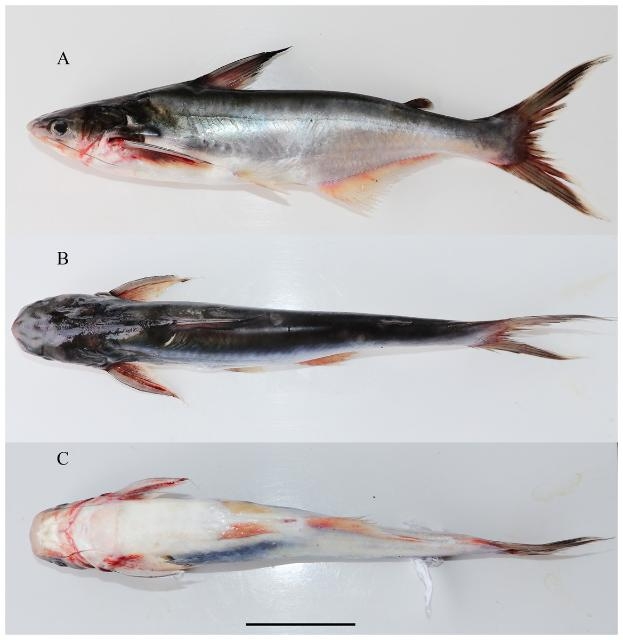Mulut: (14, 96, 70, 168), (9, 288, 55, 360), (14, 504, 66, 566)
Sirip Anal: (319, 138, 455, 224), (306, 506, 414, 558), (300, 340, 381, 384)
Sirip Dada: (112, 126, 222, 190), (94, 250, 188, 304), (102, 352, 192, 408), (98, 546, 188, 598), (105, 464, 193, 504)
Sirip Ekor: (486, 46, 606, 224), (472, 298, 592, 382), (486, 517, 606, 581)
Sirip Perut: (206, 491, 290, 563), (238, 160, 298, 228)
Sirip Punggung: (192, 40, 302, 96), (147, 313, 260, 361)
